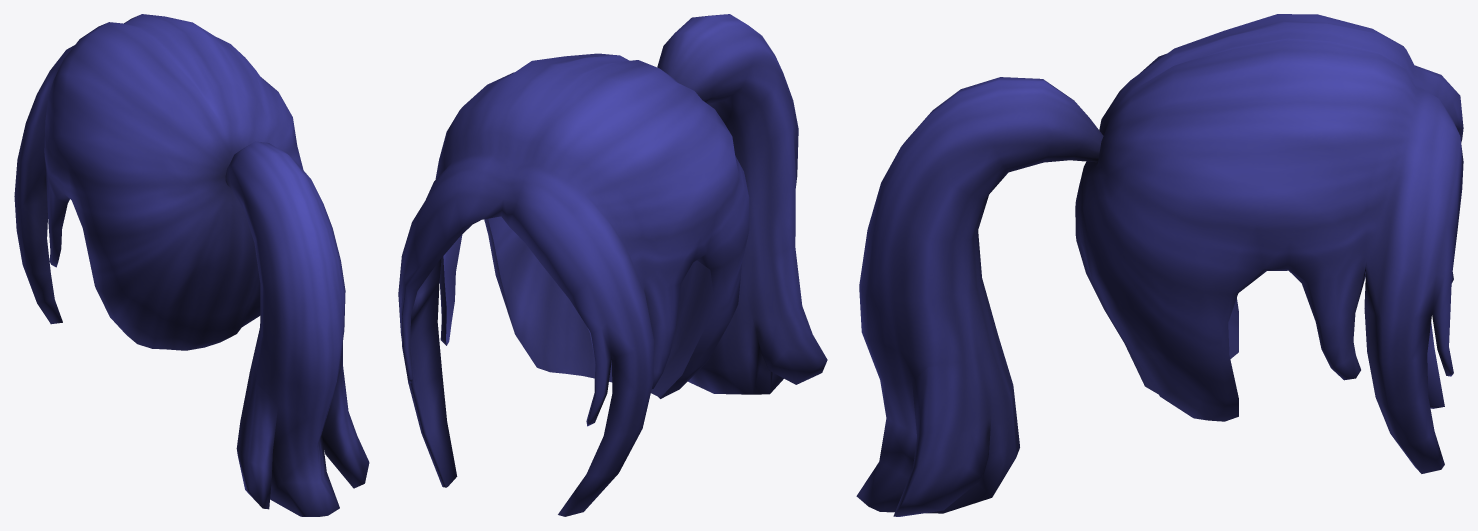
File: Hair_Female_002_textured_blue.glb
The picture shows the model from 3 angles, left to right: view 1: azimuth 30°, elevation 25°; view 2: azimuth 150°, elevation 25°; view 3: azimuth 270°, elevation 25°; orthographic projection. The views are drawn at different scales.
Parts seen in each view (by area): view 1: Hair_Female_002; view 2: Hair_Female_002; view 3: Hair_Female_002.
Boxes of the visible parts, box(x1,y1,x2,y2) form: Hair_Female_002: box(14, 14, 369, 516); Hair_Female_002: box(398, 14, 827, 516); Hair_Female_002: box(856, 14, 1463, 516).
Size of the model in its own units: 0.1741 by 0.2888 by 0.3351.
Materials: 1 (1 with a texture image).
